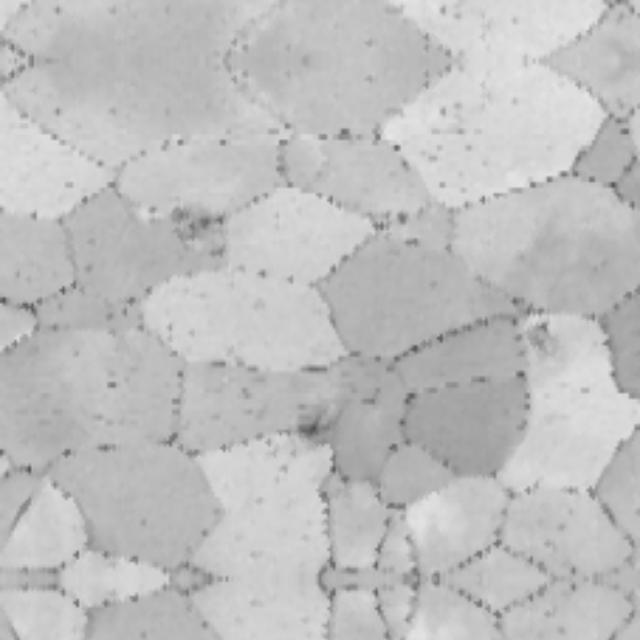good_void: (293, 397, 344, 445)
